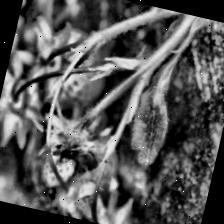Gray Mold: (20, 93, 119, 172)
